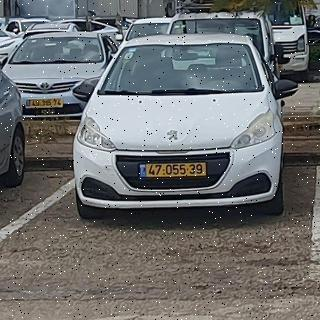LicensePlate: (146, 163, 205, 176)
